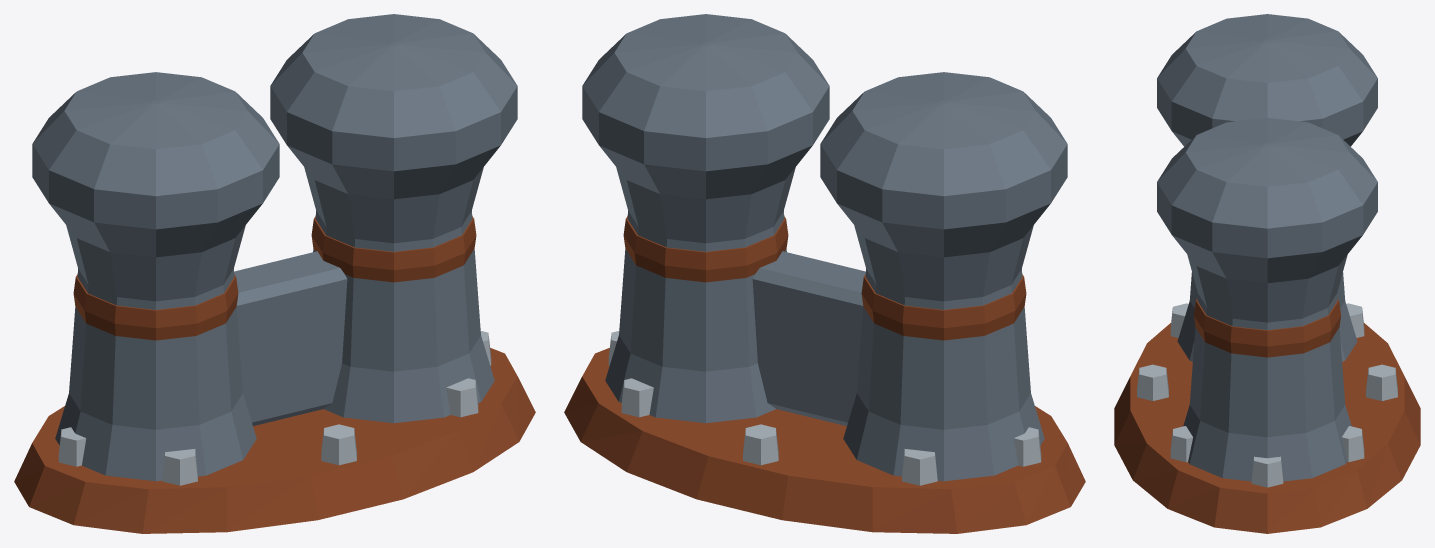
File: HARBOR_08.obj
The picture shows the model from 3 angles, left to right: view 1: azimuth 30°, elevation 25°; view 2: azimuth 150°, elevation 25°; view 3: azimuth 270°, elevation 25°; orthographic projection. The views are drawn at different scales.
Visible parts, largest first — view 1: HARBOR_08__post, HARBOR_08__base_plate, HARBOR_08__web, HARBOR_08__groove, HARBOR_08__anchor_bolts; view 2: HARBOR_08__post, HARBOR_08__base_plate, HARBOR_08__web, HARBOR_08__groove, HARBOR_08__anchor_bolts; view 3: HARBOR_08__post, HARBOR_08__base_plate, HARBOR_08__anchor_bolts, HARBOR_08__groove.
Part boxes in pixels (x1,y1,x2,y2): HARBOR_08__post: [32, 14, 517, 481]; HARBOR_08__base_plate: [14, 348, 535, 533]; HARBOR_08__web: [234, 251, 347, 425]; HARBOR_08__groove: [73, 216, 476, 340]; HARBOR_08__anchor_bolts: [58, 331, 491, 485]; HARBOR_08__post: [582, 14, 1067, 481]; HARBOR_08__base_plate: [564, 348, 1085, 533]; HARBOR_08__web: [752, 251, 865, 425]; HARBOR_08__groove: [623, 216, 1026, 340]; HARBOR_08__anchor_bolts: [608, 331, 1041, 485]; HARBOR_08__post: [1157, 14, 1377, 481]; HARBOR_08__base_plate: [1114, 323, 1420, 533]; HARBOR_08__anchor_bolts: [1137, 303, 1397, 487]; HARBOR_08__groove: [1194, 298, 1340, 357].
Size of the model in its own units: 1.24 by 0.9 by 0.7485.
